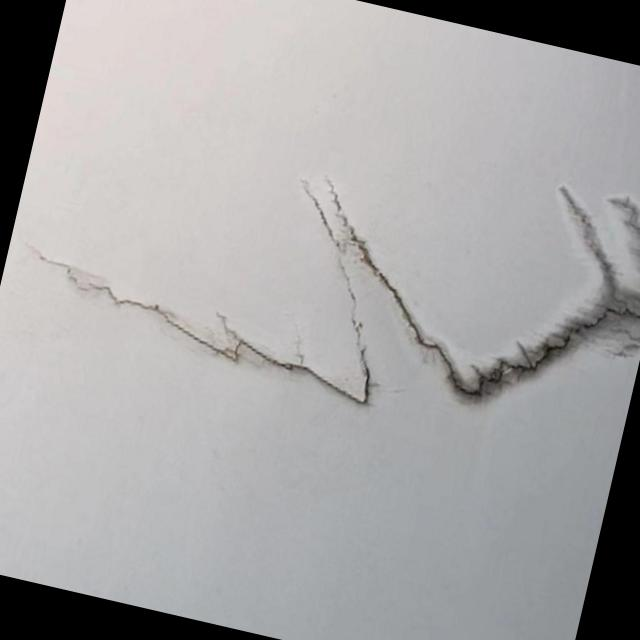crack: (47, 79, 640, 468)
